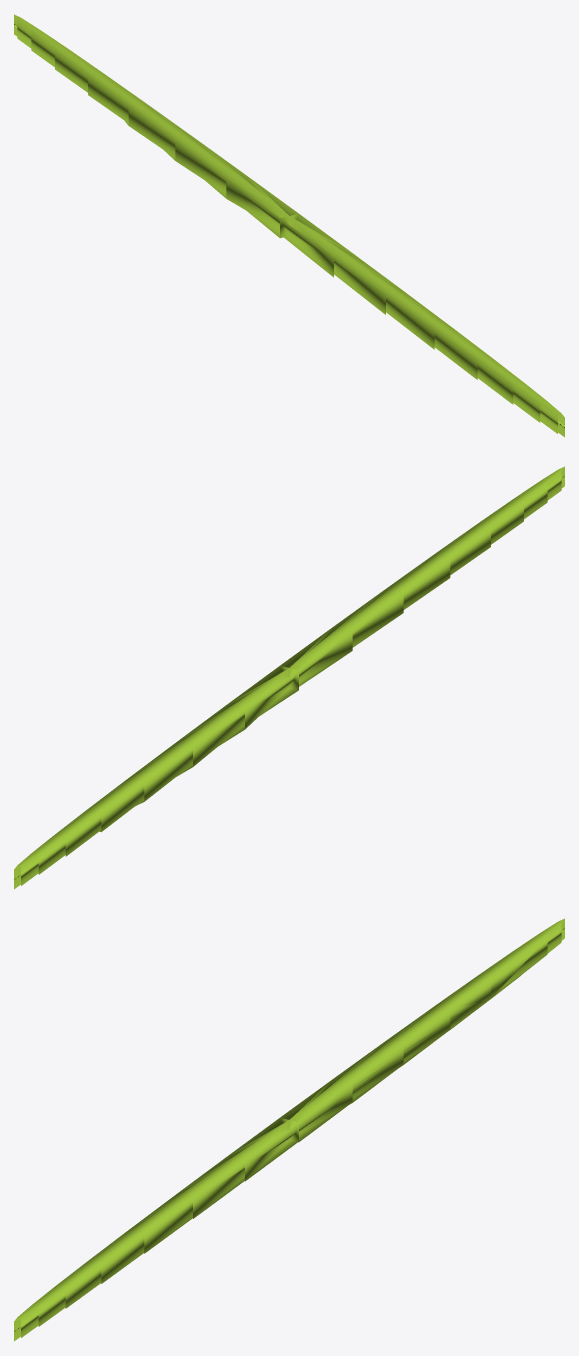
The model's file is sword.fbx.
3 views of the same model, one above another, from view 1: azimuth 30°, elevation 25°; view 2: azimuth 150°, elevation 25°; view 3: azimuth 330°, elevation 25° (orthographic).
Visible parts, largest first — view 1: Mesh; view 2: Mesh; view 3: Mesh.
Part boxes in pixels (x1,y1,x2,y2): Mesh: (14, 14, 564, 437); Mesh: (14, 466, 564, 889); Mesh: (14, 918, 564, 1341).
Bounding box in the file's own units: 0.4 × 0.4 × 20.
